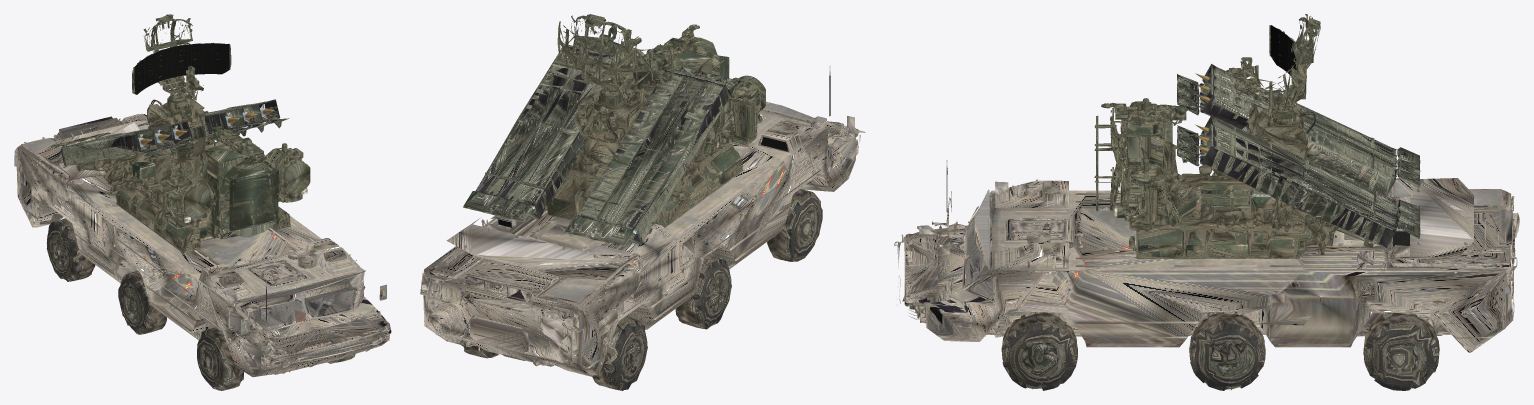
Rendered from osa.glb.
3 views of the same model, side by side, from view 1: azimuth 30°, elevation 25°; view 2: azimuth 150°, elevation 25°; view 3: azimuth 270°, elevation 25° (orthographic). The views are drawn at different scales.
Parts seen in each view (by area): view 1: Object_36, Object_23, Object_9, Object_40, Object_34, Object_39, Object_3, Object_11, Object_13, Object_27, Object_33, Object_8 (+17 smaller); view 2: Object_36, Object_11, Object_10, Object_40, Object_9, Object_13, Object_12, Object_35, Object_39, Object_19, Object_8, Object_23 (+12 smaller); view 3: Object_36, Object_10, Object_7, Object_40, Object_13, Object_11, Object_8, Object_23, Object_39, Object_34, Object_14, Object_35 (+15 smaller).
Part boxes in pixels (x1,y1,x2,y2): Object_36: [14, 114, 391, 376]; Object_23: [200, 126, 278, 239]; Object_9: [46, 218, 166, 334]; Object_40: [37, 120, 387, 357]; Object_34: [39, 114, 363, 343]; Object_39: [53, 117, 296, 344]; Object_3: [134, 43, 229, 94]; Object_11: [60, 121, 230, 166]; Object_13: [116, 144, 290, 253]; Object_27: [230, 149, 363, 330]; Object_33: [199, 238, 358, 306]; Object_8: [197, 327, 243, 390]; Object_36: [420, 110, 858, 376]; Object_11: [542, 69, 729, 244]; Object_10: [475, 44, 624, 220]; Object_40: [446, 101, 857, 362]; Object_9: [592, 254, 731, 390]; Object_13: [547, 143, 742, 227]; Object_12: [463, 46, 741, 246]; Object_35: [430, 131, 858, 368]; Object_39: [459, 116, 855, 297]; Object_19: [557, 21, 673, 95]; Object_8: [461, 188, 822, 358]; Object_23: [637, 24, 729, 107]; Object_36: [902, 188, 1517, 352]; Object_10: [1199, 115, 1396, 249]; Object_7: [1001, 312, 1265, 390]; Object_40: [905, 178, 1473, 333]; Object_13: [1129, 172, 1336, 258]; Object_11: [1199, 64, 1397, 196]; Object_8: [1363, 312, 1439, 390]; Object_23: [1094, 103, 1186, 221]; Object_39: [945, 191, 1508, 250]; Object_34: [960, 220, 1509, 337]; Object_14: [1136, 133, 1331, 258]; Object_35: [917, 189, 1519, 345].
Bounding box in the file's own units: 3.05 × 5.49 × 9.34.
Materials: 14 (13 with a texture image).
